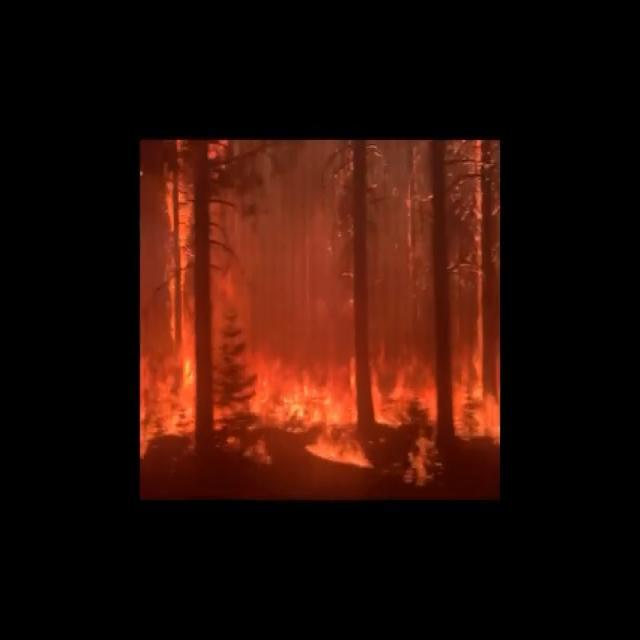Fire: (140, 138, 499, 474)
